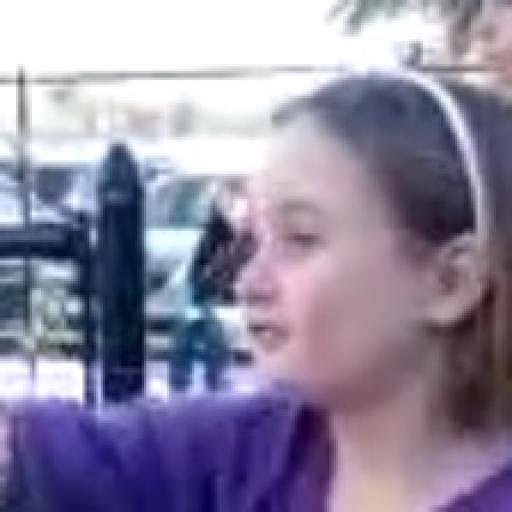Autism: (231, 84, 512, 512)
